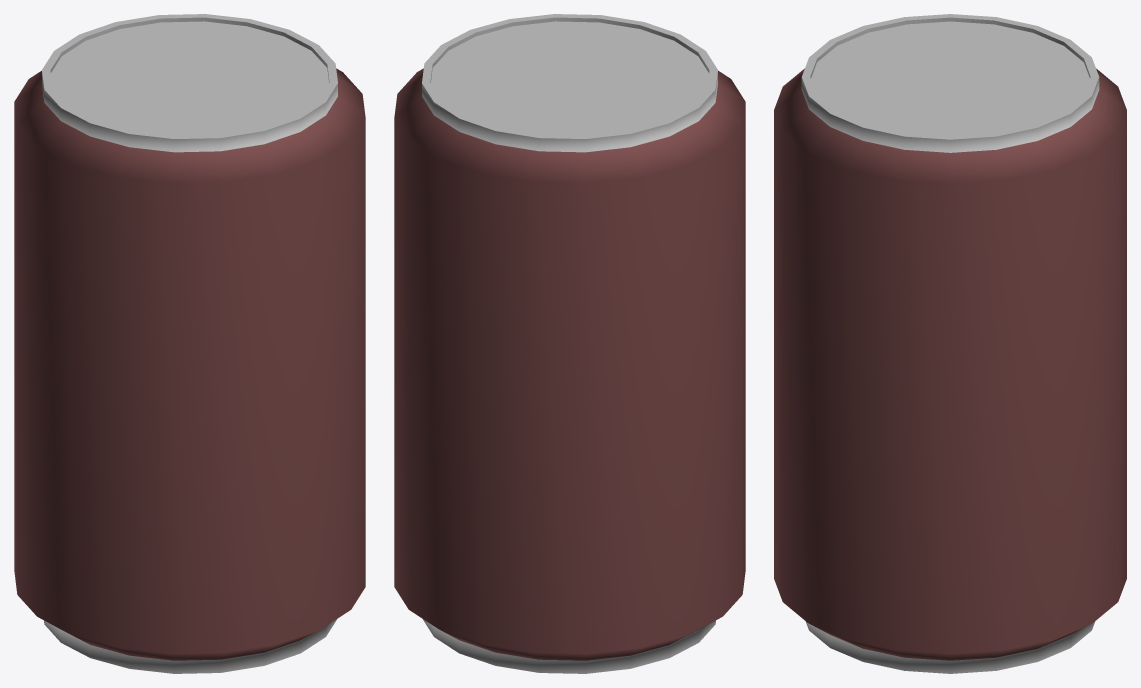
File: SodaCan_small.fbx
The picture shows the model from 3 angles, left to right: view 1: azimuth 30°, elevation 25°; view 2: azimuth 150°, elevation 25°; view 3: azimuth 270°, elevation 25°; orthographic projection.
Visible parts, largest first — view 1: soda_can; view 2: soda_can; view 3: soda_can.
Part boxes in pixels (x1,y1,x2,y2): soda_can: (14, 14, 365, 673); soda_can: (394, 14, 745, 673); soda_can: (774, 14, 1126, 673).
Bounding box in the file's own units: 0.2626 × 0.439 × 0.2626.
